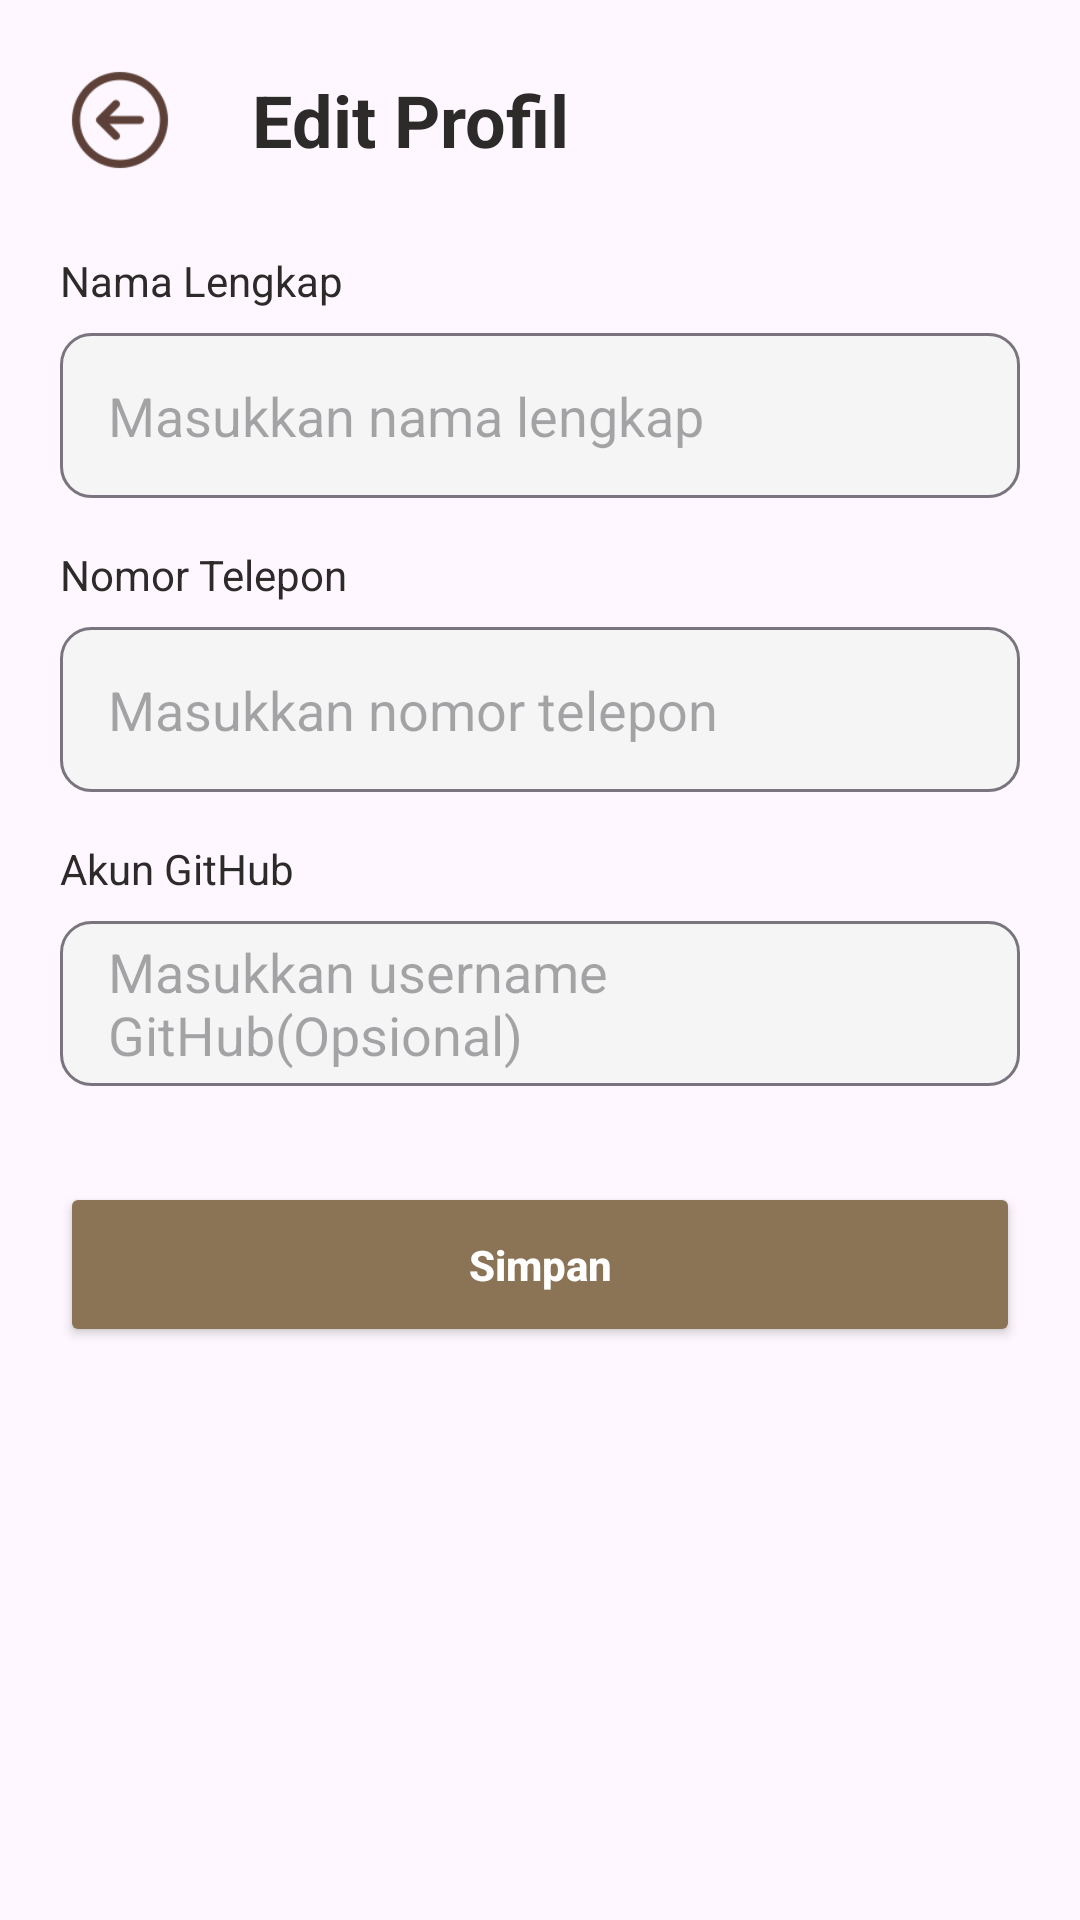

Screen size 1080w x 1920h. Icon name, then its box in pixels as rect(x1, y1, x2, y2):
back: rect(72, 72, 168, 168)
